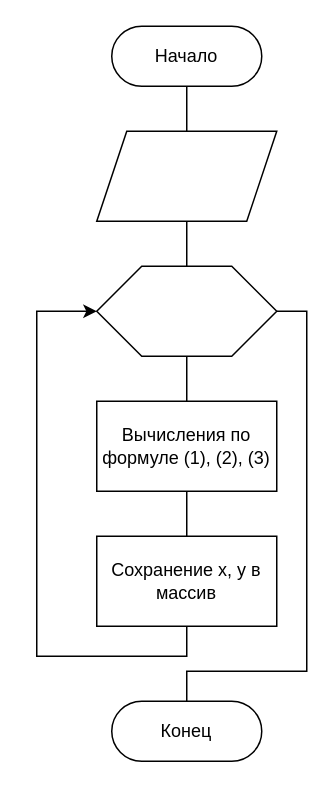
Some shapes in this 335 by 788 pixel diagram are drawn without their labels. Each missing label, with the centre of its shape:
"a, step" belongs at [186,175].
"От angle = 0 до Pi с шагом step" belongs at [186,310].
